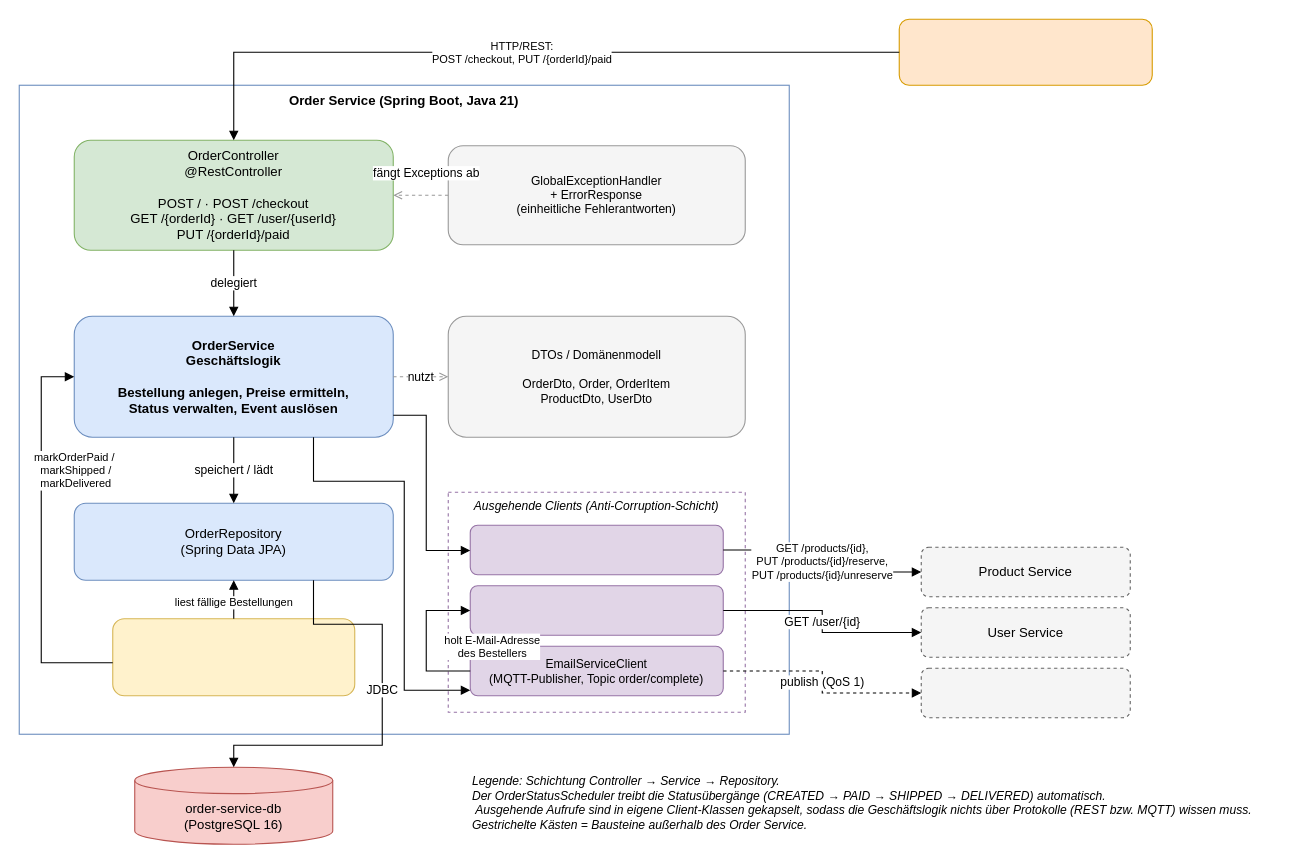
Image size: 1315x864. Some labels were removed from this diagram. Here are the shapes that lost their labels. From the top down, the box of each, then its label:
(898, 18, 1152, 85): API Gateway (leitet /order/** weiter, X-User-Id)
(469, 524, 723, 575): ProductServiceClient (REST)
(469, 585, 723, 635): UserServiceClient (REST)
(112, 618, 355, 696): OrderStatusScheduler @Scheduled (alle 10 s) CREATED → PAID → SHIPPED → DELIVERED
(920, 667, 1130, 718): MQTT-Broker (Mosquitto) → Email Service
